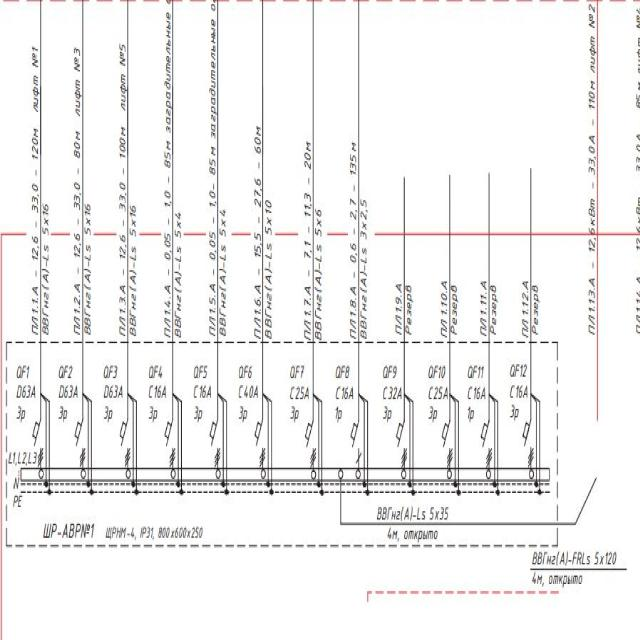-: (104, 522, 205, 540), (100, 383, 124, 424), (332, 382, 356, 422), (463, 384, 486, 425), (190, 383, 213, 424), (381, 382, 404, 423), (237, 382, 260, 422), (13, 381, 36, 421), (288, 384, 311, 424), (505, 382, 528, 422), (146, 382, 168, 423), (56, 383, 78, 424), (426, 382, 448, 423)
QF: (350, 418, 363, 452), (395, 420, 407, 452), (441, 419, 453, 451), (74, 419, 86, 451), (304, 422, 315, 454), (479, 418, 490, 450), (523, 419, 534, 451), (119, 418, 130, 450), (164, 420, 175, 452), (31, 418, 42, 450), (209, 419, 220, 451), (254, 418, 265, 450)
